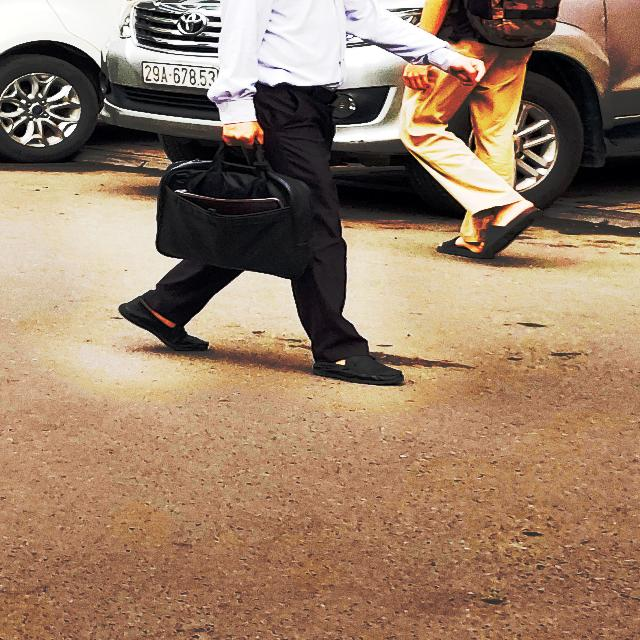license_plate: (141, 63, 219, 90)
